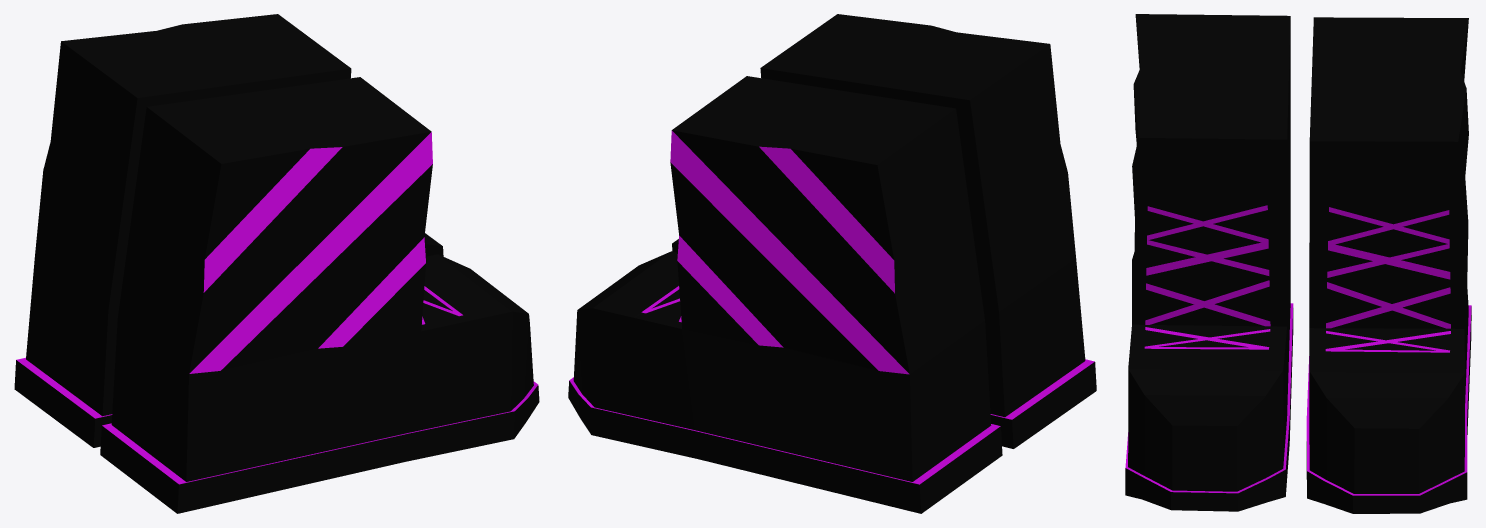
Rendered from Botas.fbx.
3 renders of one model, left to right at view 1: azimuth 30°, elevation 25°; view 2: azimuth 150°, elevation 25°; view 3: azimuth 270°, elevation 25°, orthographic.
Parts seen in each view (by area): view 1: Cube; view 2: Cube; view 3: Cube.
Boxes of the visible parts, x1,y1,x2,y2 form: Cube: (14,14,539,513); Cube: (568,14,1096,513); Cube: (1125,14,1471,513).
Bounding box in the file's own units: 123 × 104 × 95.14.
